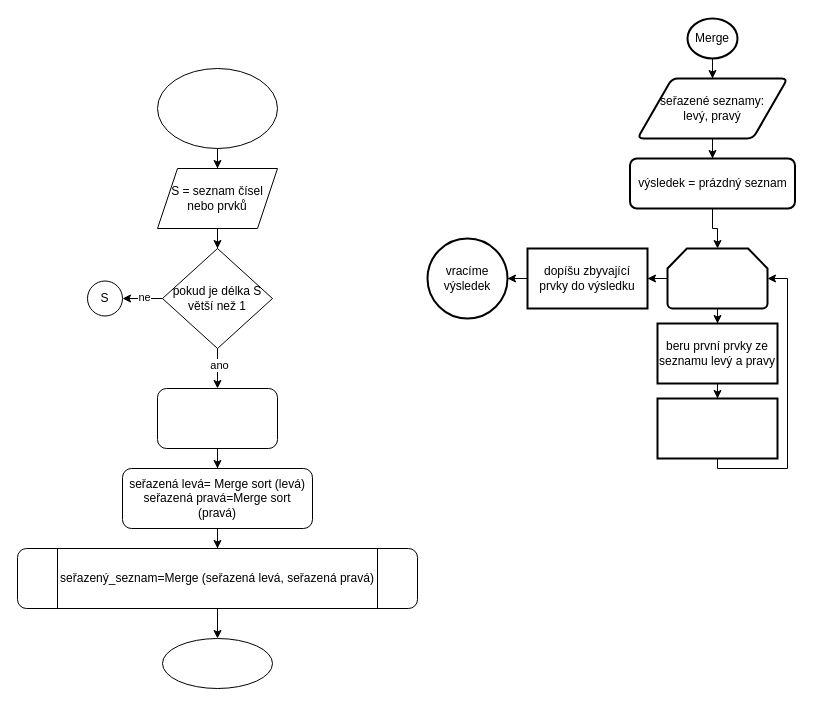
Some shapes in this 813 by 706 pixel diagram are drawn without their labels. Here are the shapes that lost their labels. From the top down, the centre of each, then its label:
At (217,108): "Merge sort".
At (717,278): "dokud nedojdou prvky v jednom ye seznamu".
At (217,418): "rozdelit na 2 poloviny (levá, pravá)".
At (717,428): "menší z nich přidám do výsledku a odstraním z původního seznamu".
At (217,663): "seřazený_seznam".
